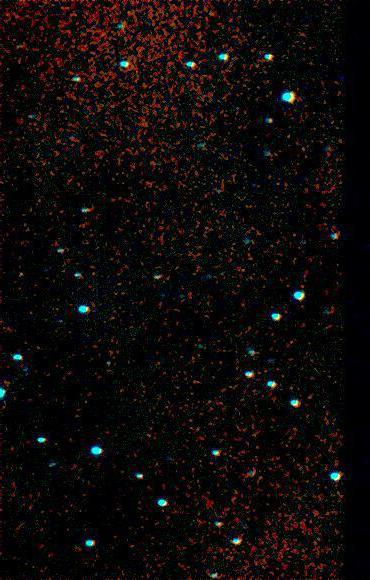star: (5, 255, 35, 285)
